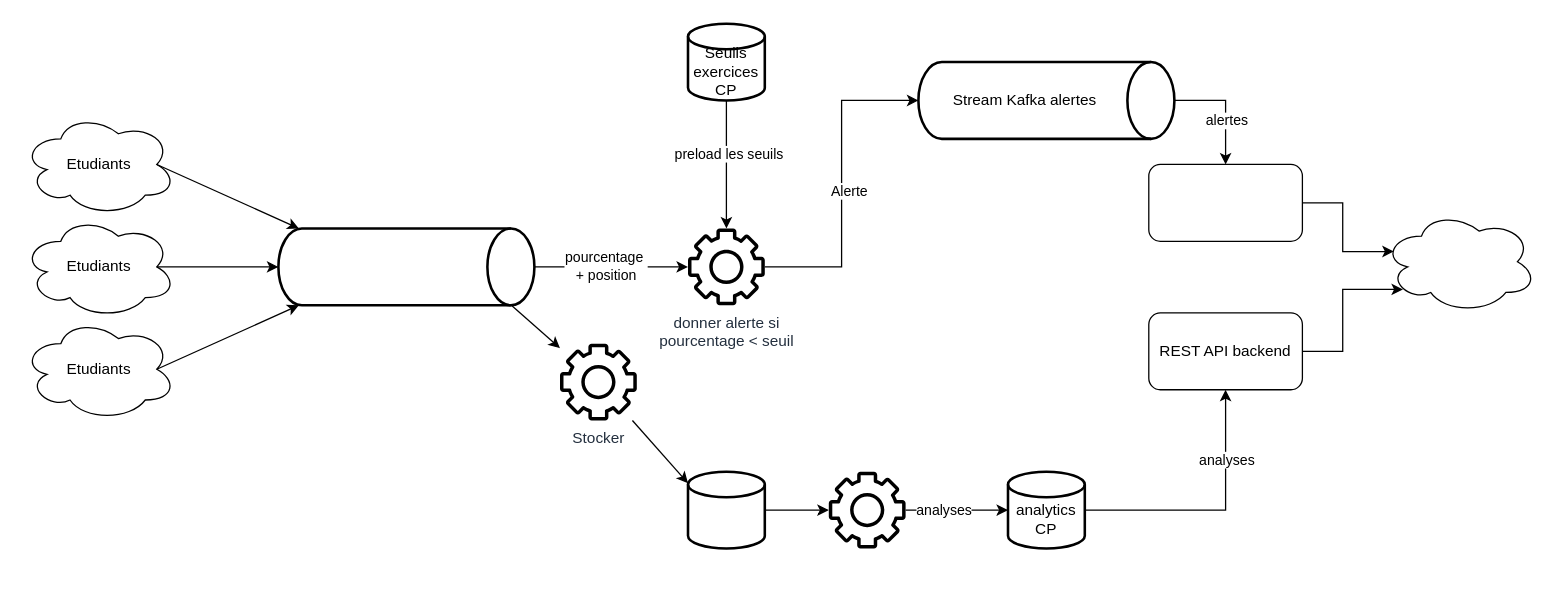
Some shapes in this 1559 by 596 pixel diagram are drawn without their labels. Each missing label, with the box of its shape:
Analytics: (828, 471, 905, 548)
Frontend: (1382, 209, 1537, 313)
historique blob storage: (686, 470, 765, 549)
Stream Kafka rapports: (276, 227, 535, 306)
Websocket backend: (1148, 163, 1302, 241)
